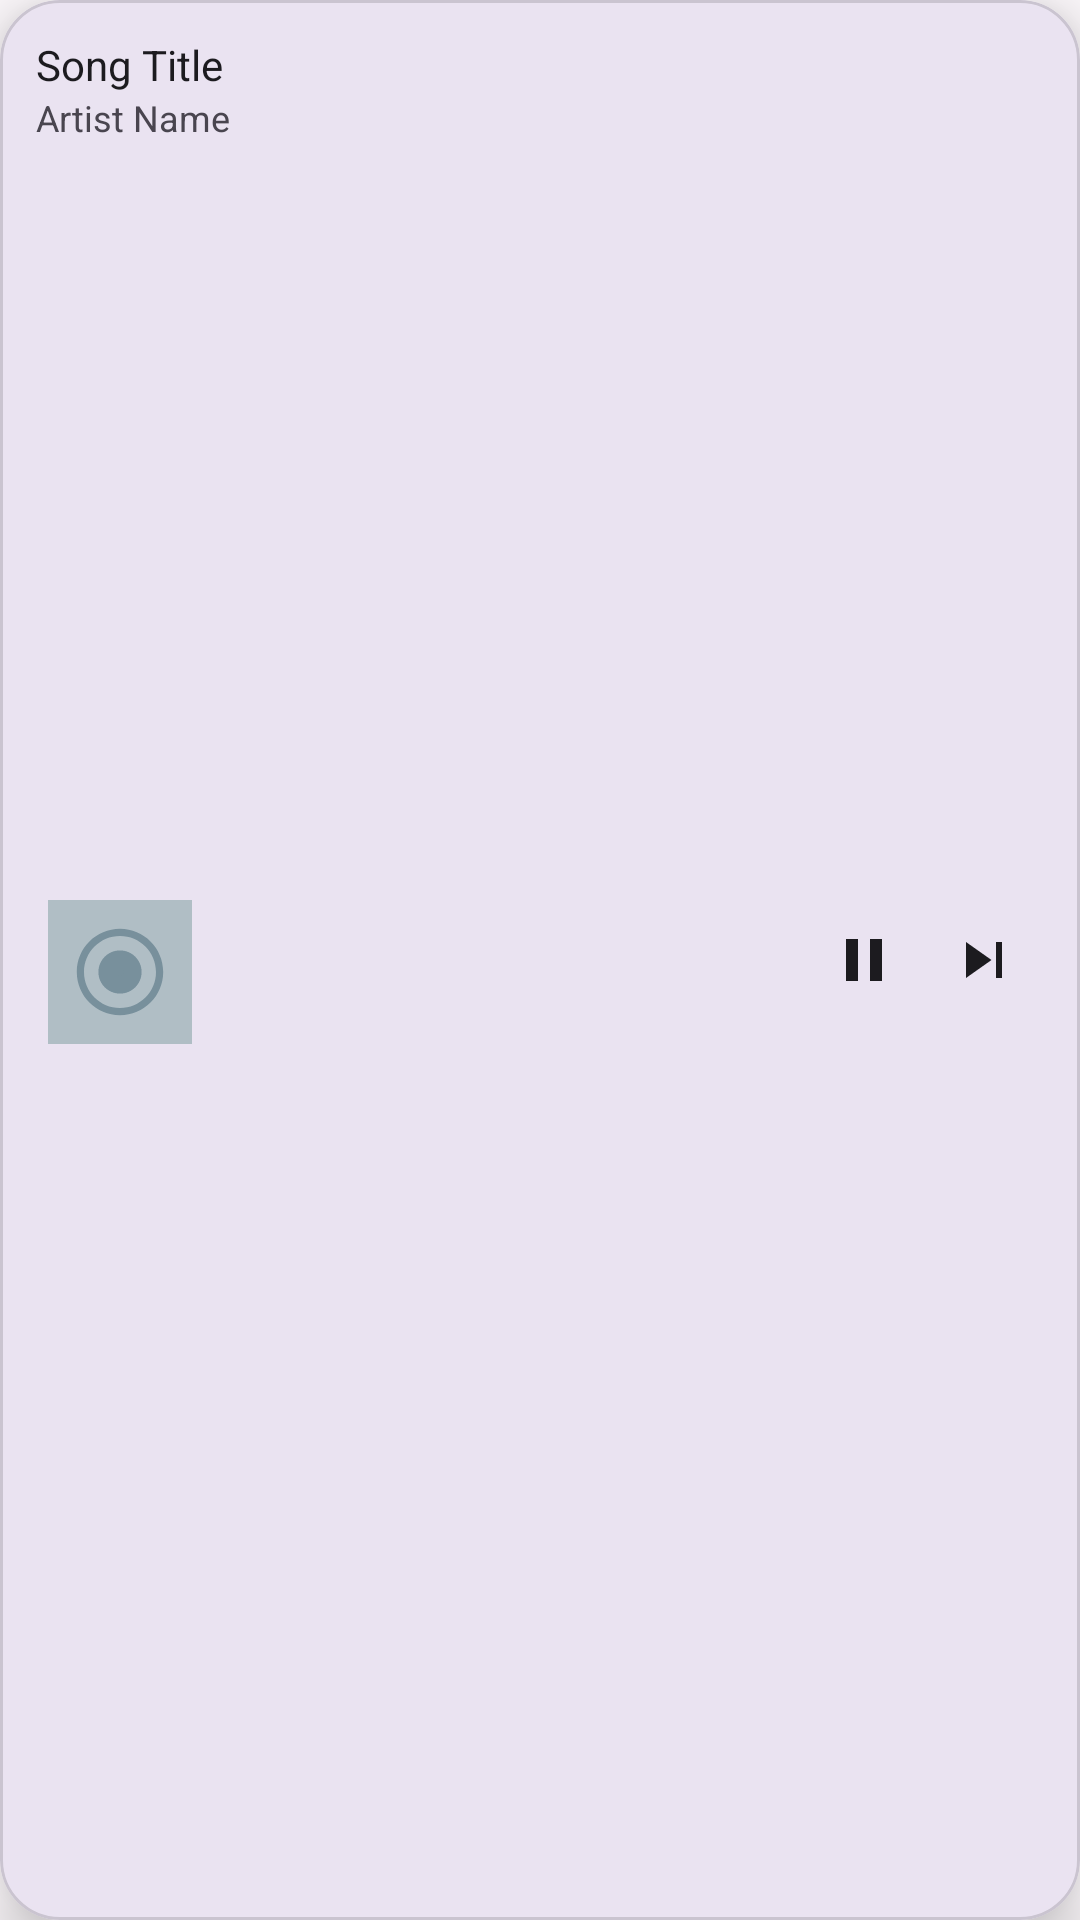

Locate icon controls on the screen. Image size 1080x1920, boxes as (x1, y1, x2, y2).
Next song: (966, 942, 1002, 978)
Play/Pause: (846, 939, 882, 981)
